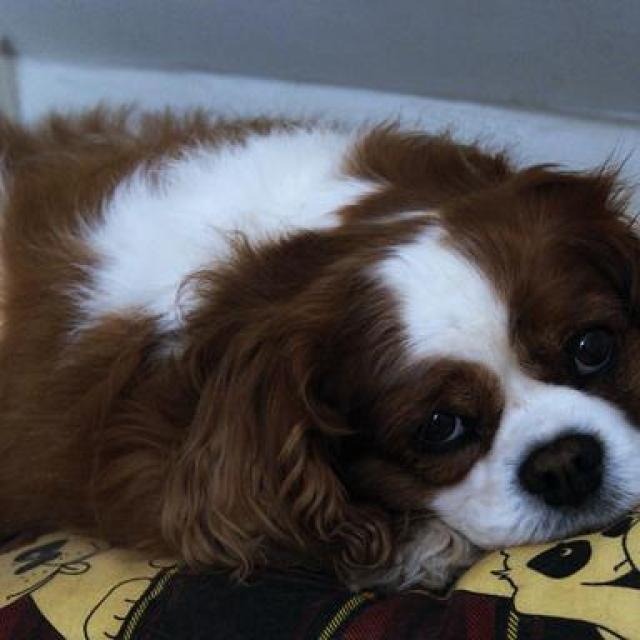sad: (150, 199, 640, 552)
